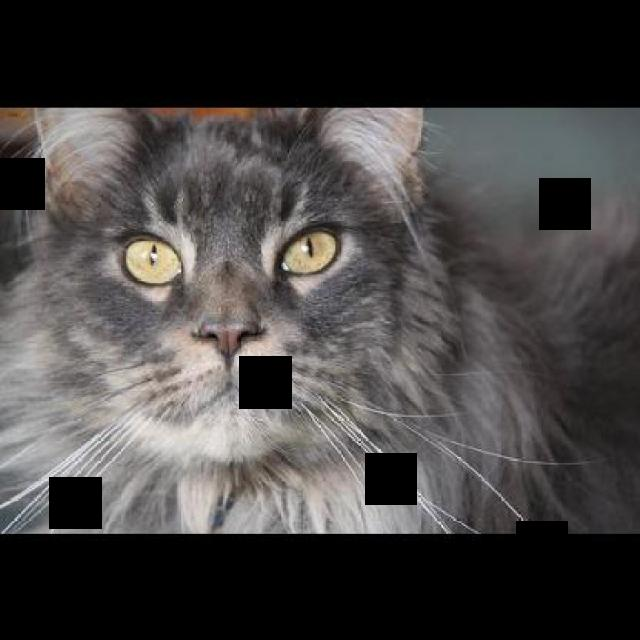unauthorized: (0, 104, 638, 533)
